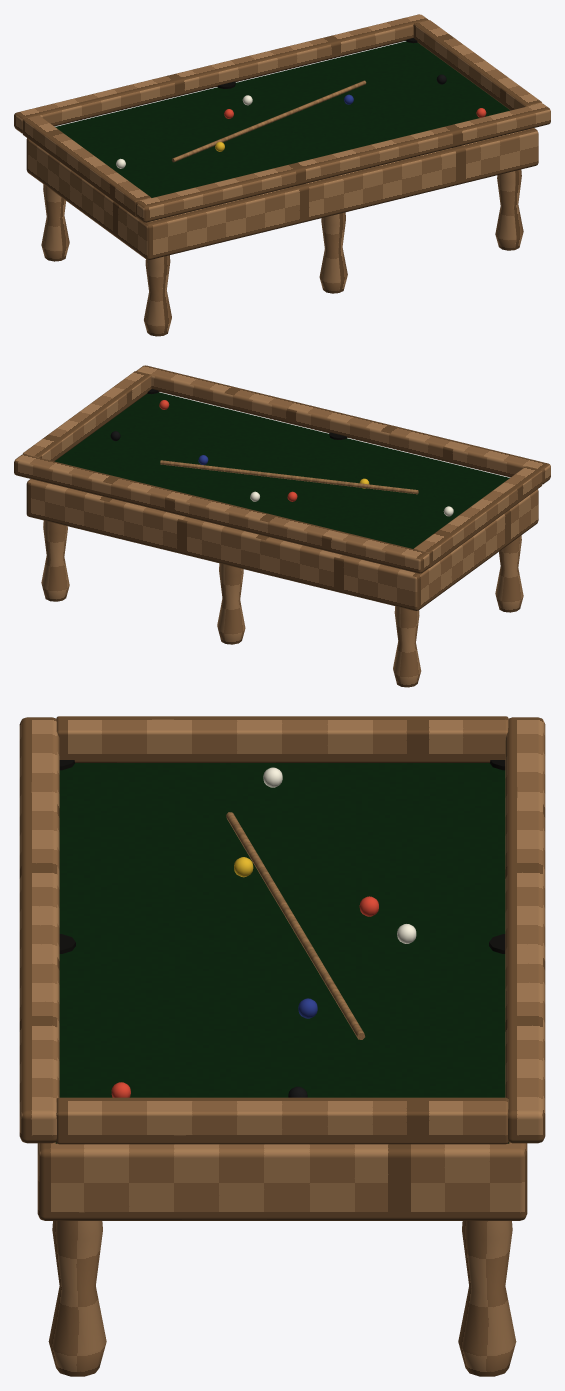
File: billiardTable.glb
3 renders of one model, top to bottom at view 1: azimuth 30°, elevation 25°; view 2: azimuth 150°, elevation 25°; view 3: azimuth 270°, elevation 25°, orthographic. The views are drawn at different scales.
Visible parts, largest first — view 1: dyn_wood_variant, billiardTable; view 2: dyn_wood_variant, billiardTable; view 3: billiardTable, dyn_wood_variant.
Part boxes in pixels (left/top/right/bottom): dyn_wood_variant: left=14, top=14, right=550, bottom=336; billiardTable: left=55, top=38, right=510, bottom=197; dyn_wood_variant: left=14, top=365, right=550, bottom=687; billiardTable: left=54, top=389, right=509, bottom=548; billiardTable: left=55, top=760, right=509, bottom=1143; dyn_wood_variant: left=19, top=716, right=545, bottom=1376.
Size of the model in its own units: 2.6 by 0.8604 by 1.45.
9 materials, 3 textured.
